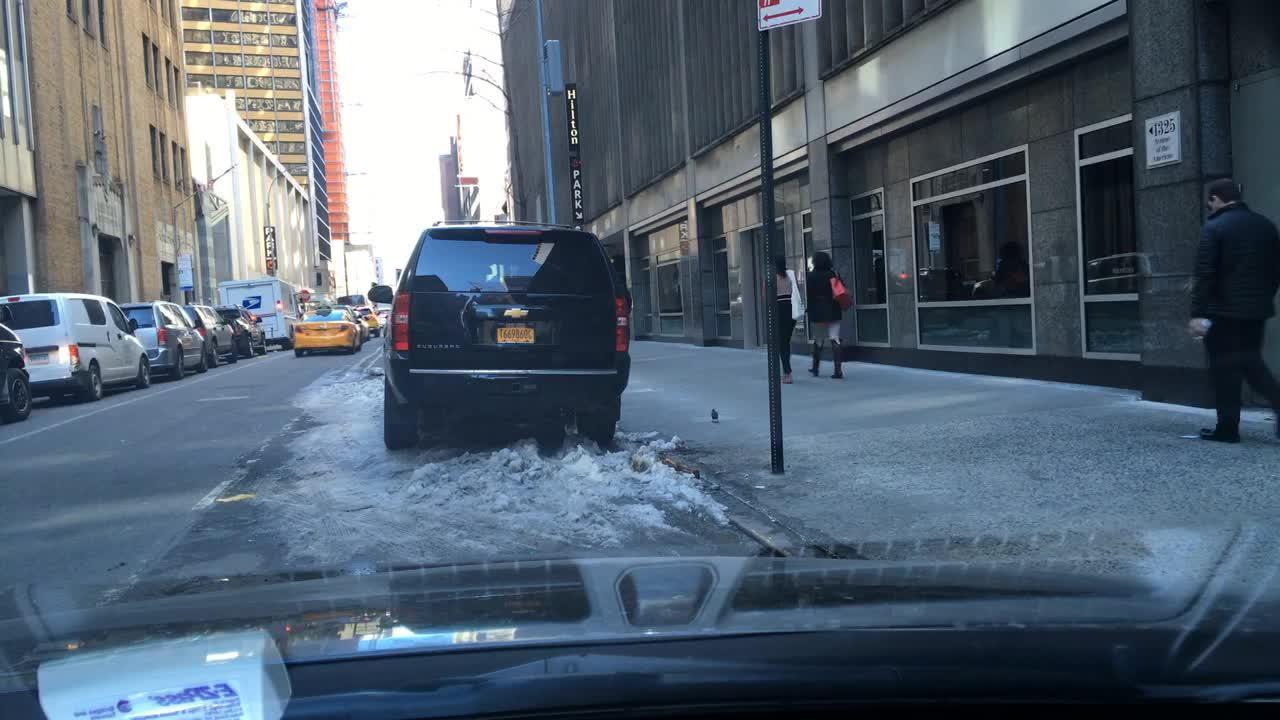chevrolet: (504, 303, 535, 323)
